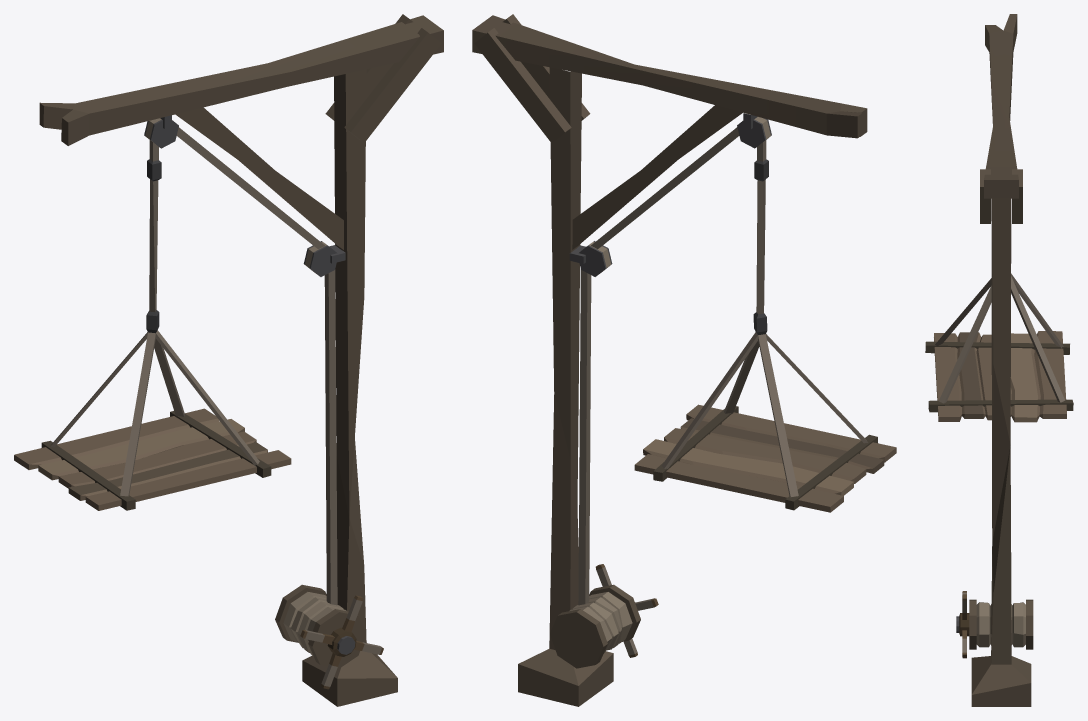
The model's file is SM_Prop_Crane_02.glb.
3 views of the same model, side by side, from view 1: azimuth 30°, elevation 25°; view 2: azimuth 150°, elevation 25°; view 3: azimuth 270°, elevation 25° (orthographic). The views are drawn at different scales.
Visible parts, largest first — view 1: SM_Prop_Crane_02; view 2: SM_Prop_Crane_02; view 3: SM_Prop_Crane_02.
Part boxes in pixels (x1,y1,x2,y2): SM_Prop_Crane_02: (14, 14, 443, 706); SM_Prop_Crane_02: (472, 14, 896, 706); SM_Prop_Crane_02: (925, 14, 1073, 706).
Bounding box in the file's own units: 0.0451 × 0.0729 × 0.0176.
